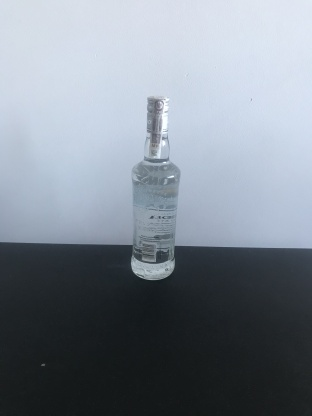nakretka: (144, 93, 171, 134)
